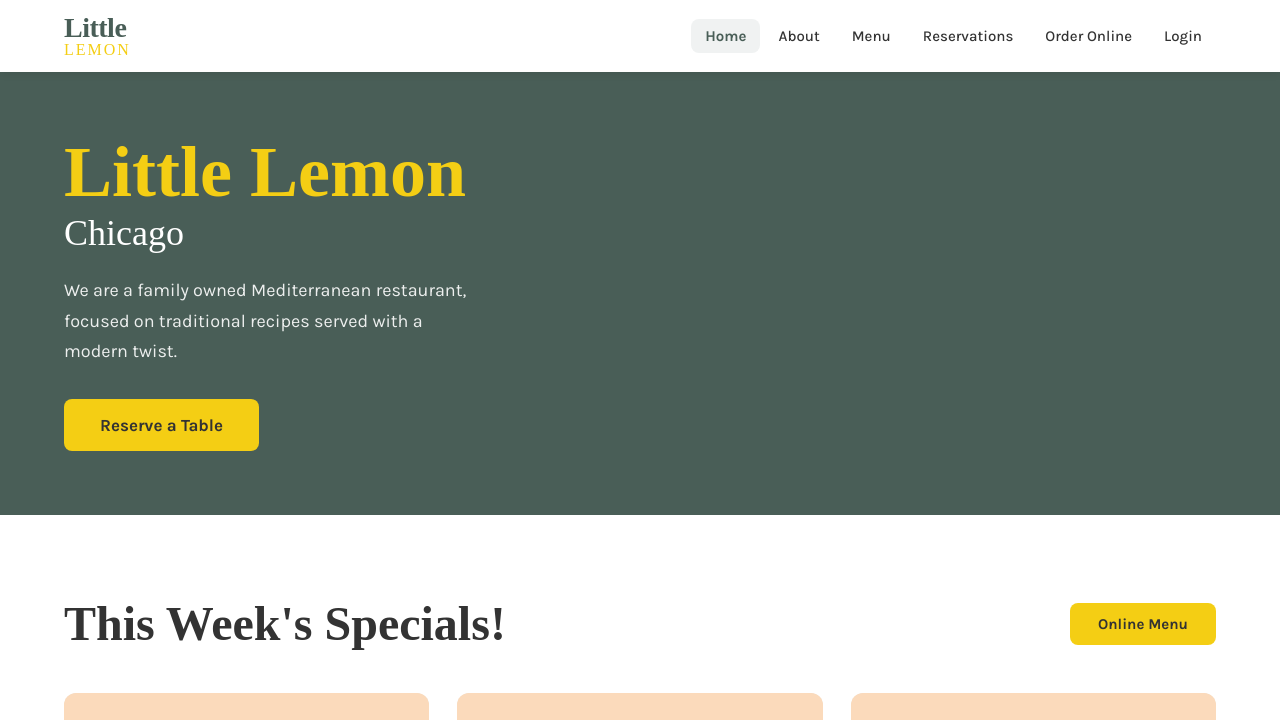
Test: App › navigates to reservations via nav link
Click the button "Reservations" at (968, 36), box [909, 19, 1027, 53]
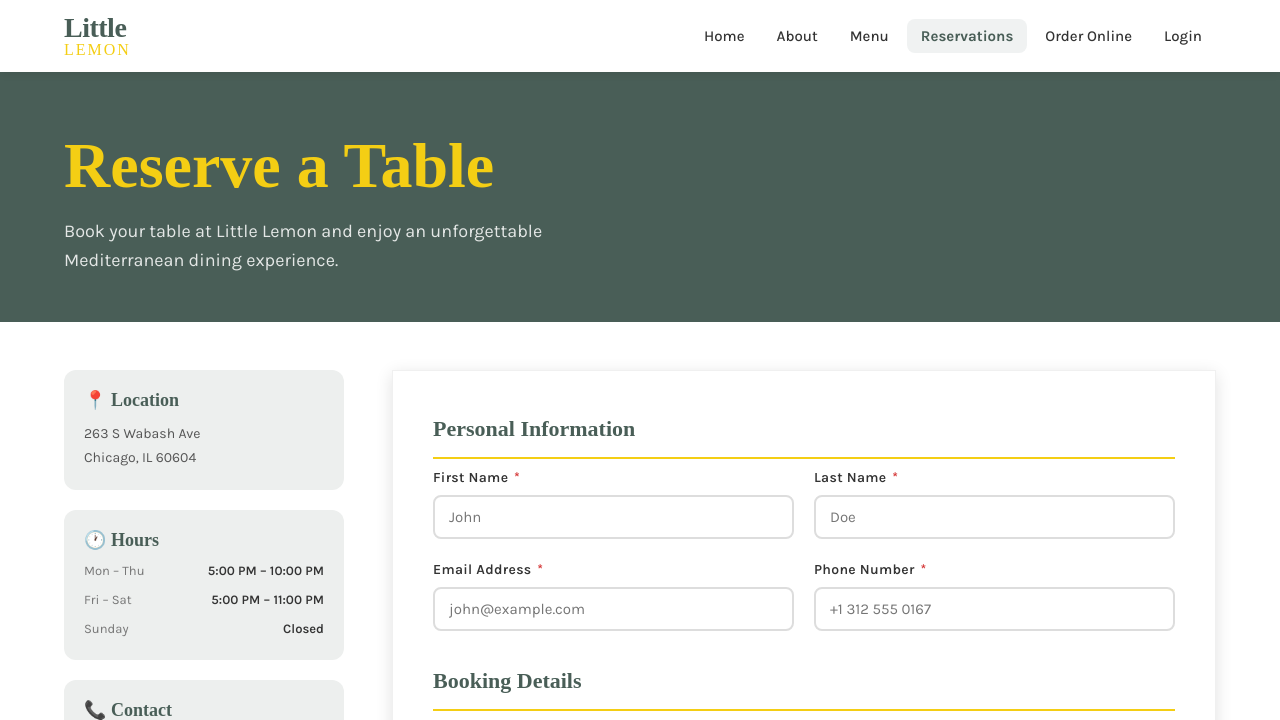
Result: the text "Book your table" is shown at [64, 220, 542, 271]
